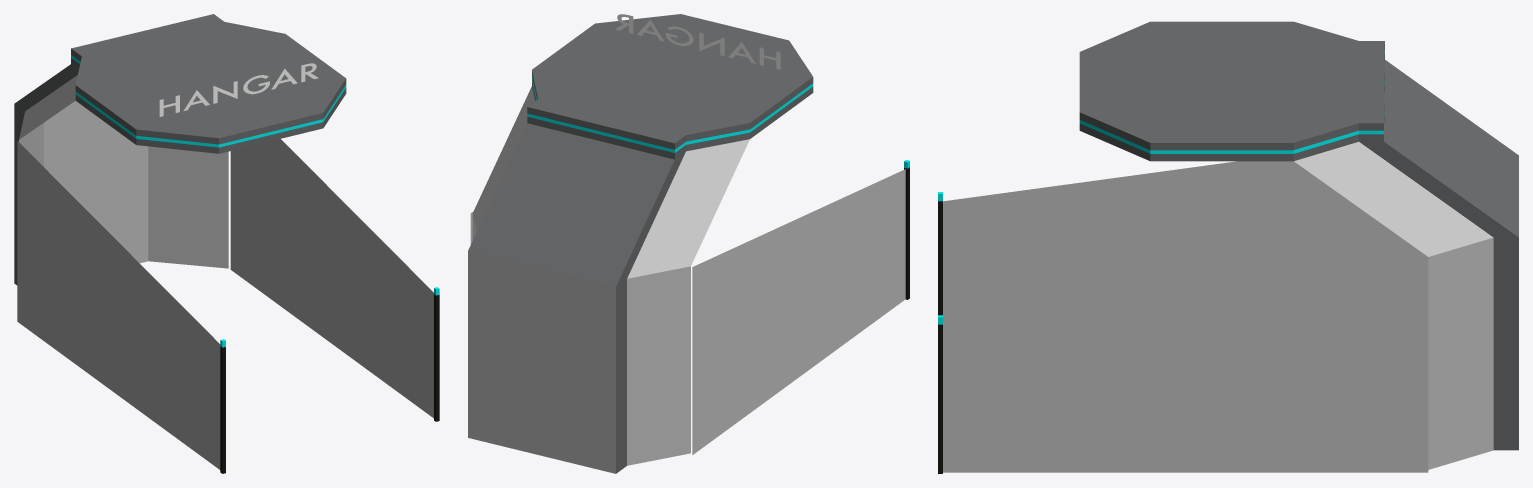
Rendered from Hangar_Frame.fbx.
The picture shows the model from 3 angles, left to right: view 1: azimuth 30°, elevation 25°; view 2: azimuth 150°, elevation 25°; view 3: azimuth 270°, elevation 25°; orthographic projection. The views are drawn at different scales.
Visible parts, largest first — view 1: Hangar_Frame; view 2: Hangar_Frame; view 3: Hangar_Frame.
Boxes of the visible parts, x1,y1,x2,y2 form: Hangar_Frame: [14, 14, 439, 473]; Hangar_Frame: [468, 14, 909, 473]; Hangar_Frame: [938, 21, 1518, 473].
Bounding box in the file's own units: 12.2 × 16.06 × 23.9.
